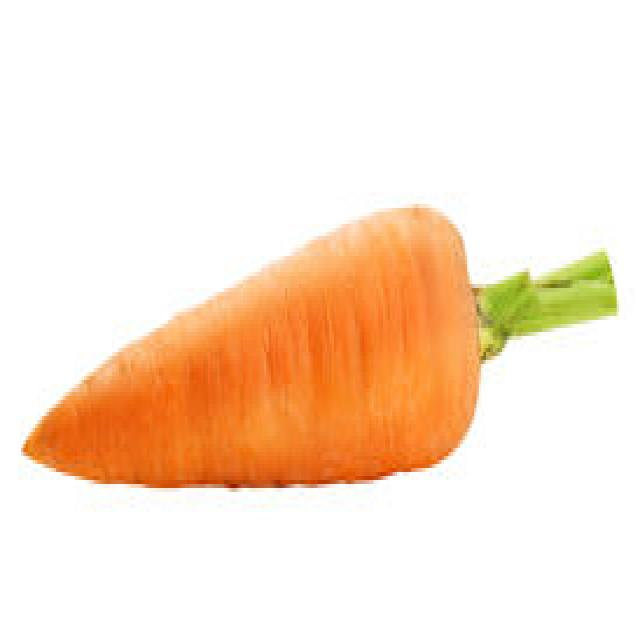Carrot: (24, 198, 620, 497)
